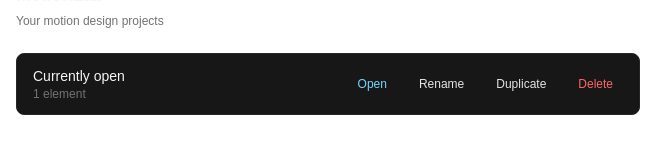
Test: ProjectList — delete › handles deleting the current editor project gracefully
Click the button with aria-label "Delete Currently open" at (596, 84), box [568, 72, 623, 96]
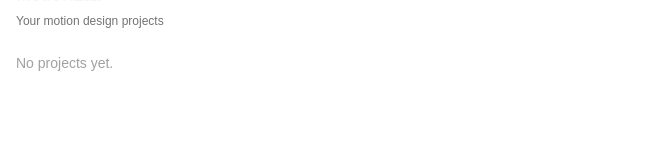
Now the text "No projects yet." is shown, box [16, 55, 113, 71]
